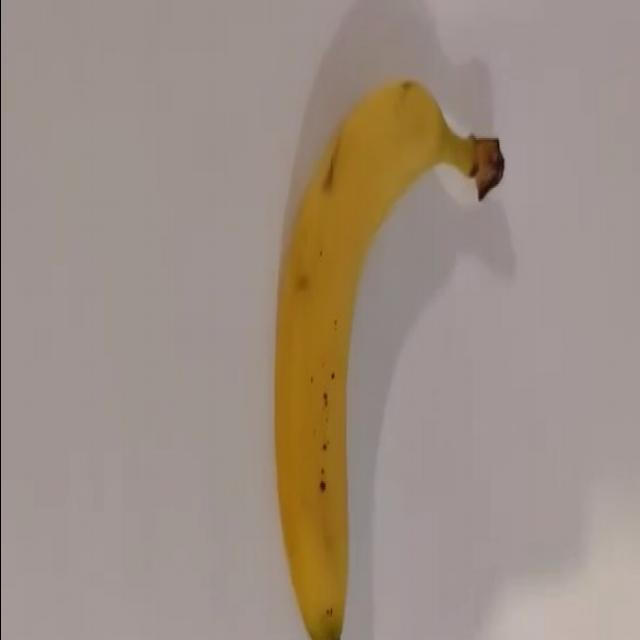Banana: (273, 77, 505, 639)
